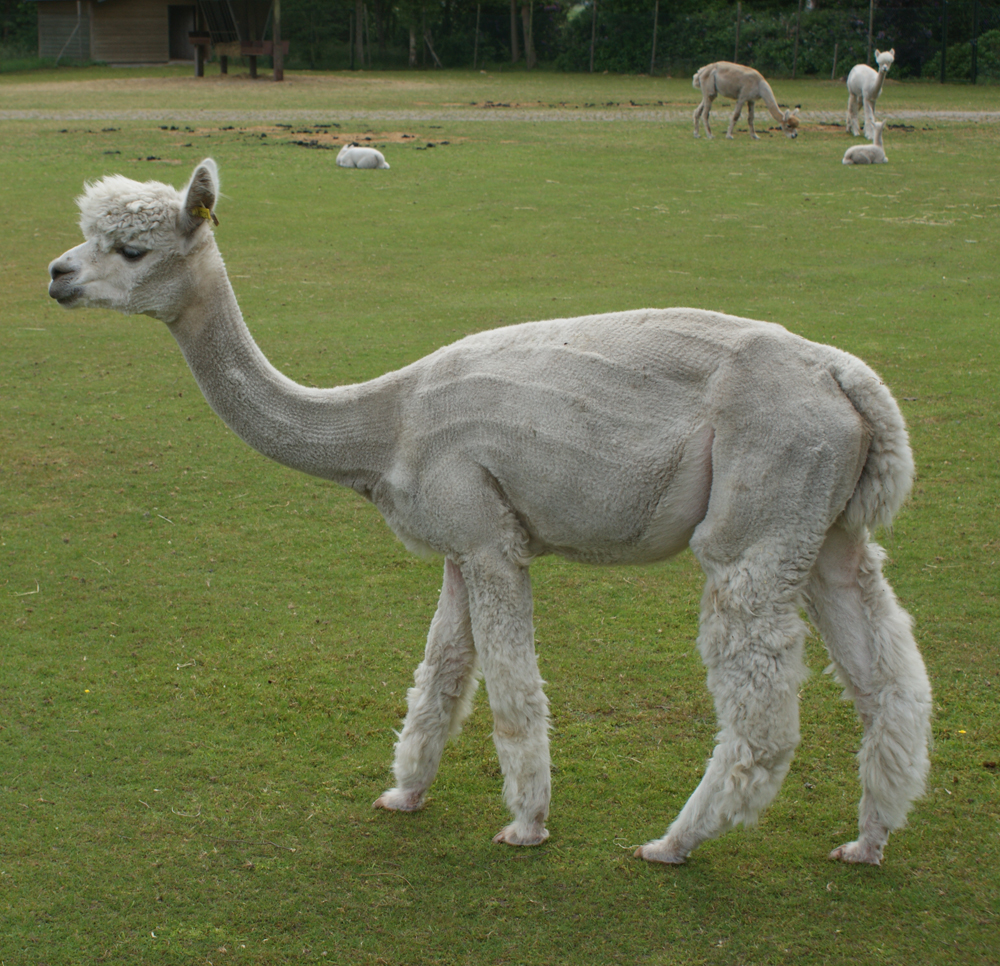alpaca: (48, 156, 935, 868), (690, 60, 800, 144), (845, 47, 896, 138), (843, 117, 891, 162)
